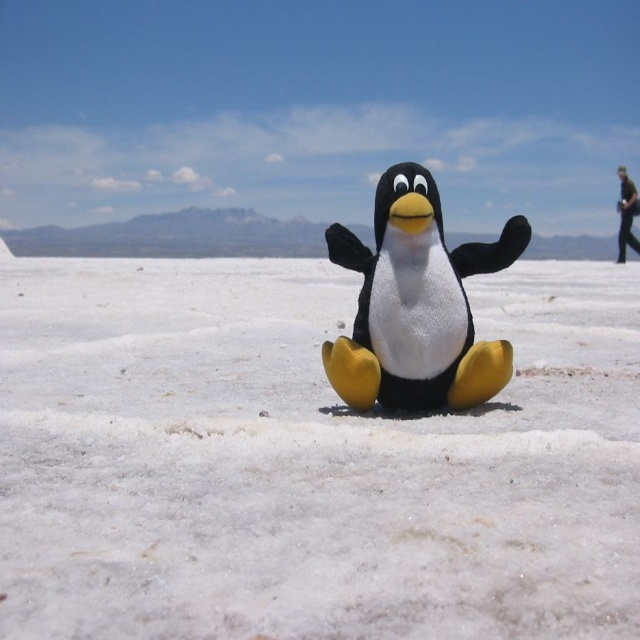Penguin: (318, 154, 520, 397)
